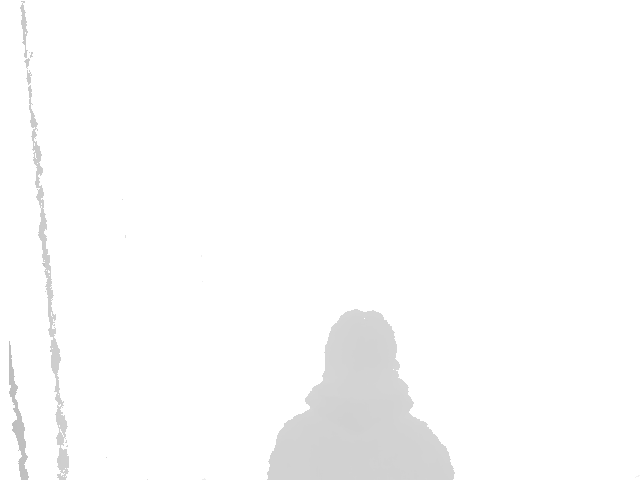head: (324, 309, 400, 419)
person: (269, 309, 455, 480)
